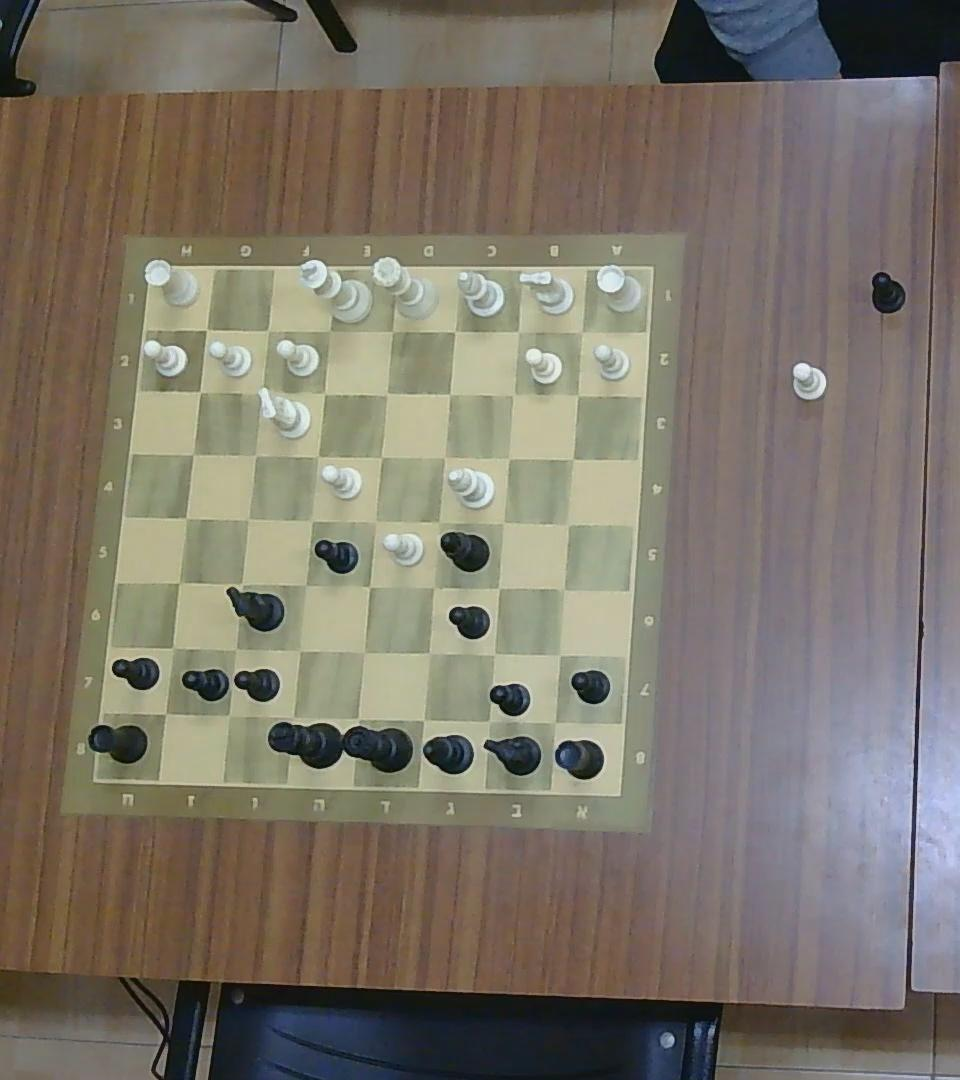xcorner: (345, 706, 370, 731), (475, 708, 500, 732), (154, 701, 178, 725), (216, 703, 240, 727), (279, 707, 304, 730), (412, 708, 435, 732), (288, 638, 311, 661), (353, 642, 375, 664), (318, 319, 340, 341), (162, 637, 185, 658), (552, 578, 575, 599), (542, 712, 566, 732), (175, 507, 197, 528), (359, 574, 380, 596), (230, 573, 252, 594), (245, 443, 266, 464), (419, 642, 440, 663), (422, 577, 444, 597), (225, 638, 245, 660), (182, 443, 202, 464), (567, 384, 587, 405), (365, 511, 386, 531), (370, 447, 390, 467), (169, 572, 189, 592), (381, 320, 401, 340), (483, 644, 503, 664), (238, 507, 257, 528), (499, 447, 518, 467), (376, 383, 395, 403), (445, 320, 464, 340), (563, 449, 583, 468), (296, 575, 315, 595), (440, 383, 459, 403), (302, 509, 320, 530), (559, 513, 578, 532), (508, 321, 527, 340), (196, 319, 215, 338), (572, 321, 591, 340), (494, 513, 513, 532), (504, 385, 523, 404), (429, 513, 448, 532), (308, 445, 326, 465), (315, 383, 333, 402), (259, 321, 277, 340), (489, 579, 507, 598), (550, 645, 568, 664), (252, 382, 271, 400), (435, 448, 453, 466), (190, 382, 208, 400)
